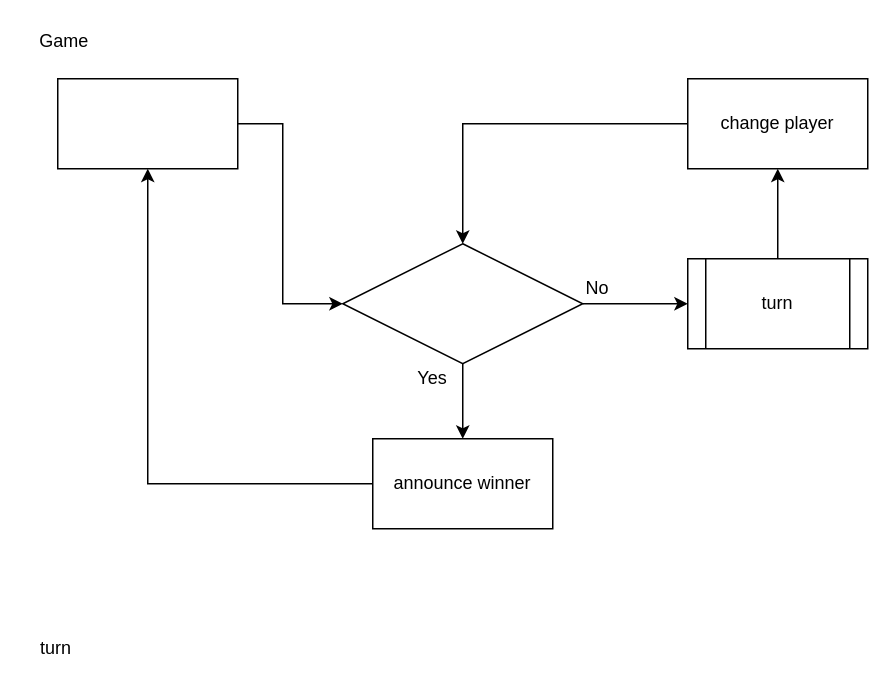
Some shapes in this 894 by 689 pixel diagram are drawn without their labels. The shapes that lost their labels are listed below. From the top down, each one's centre as x and y in pixels, then its label:
At pixel 147 123: "init Game".
At pixel 462 303: "game won?".
